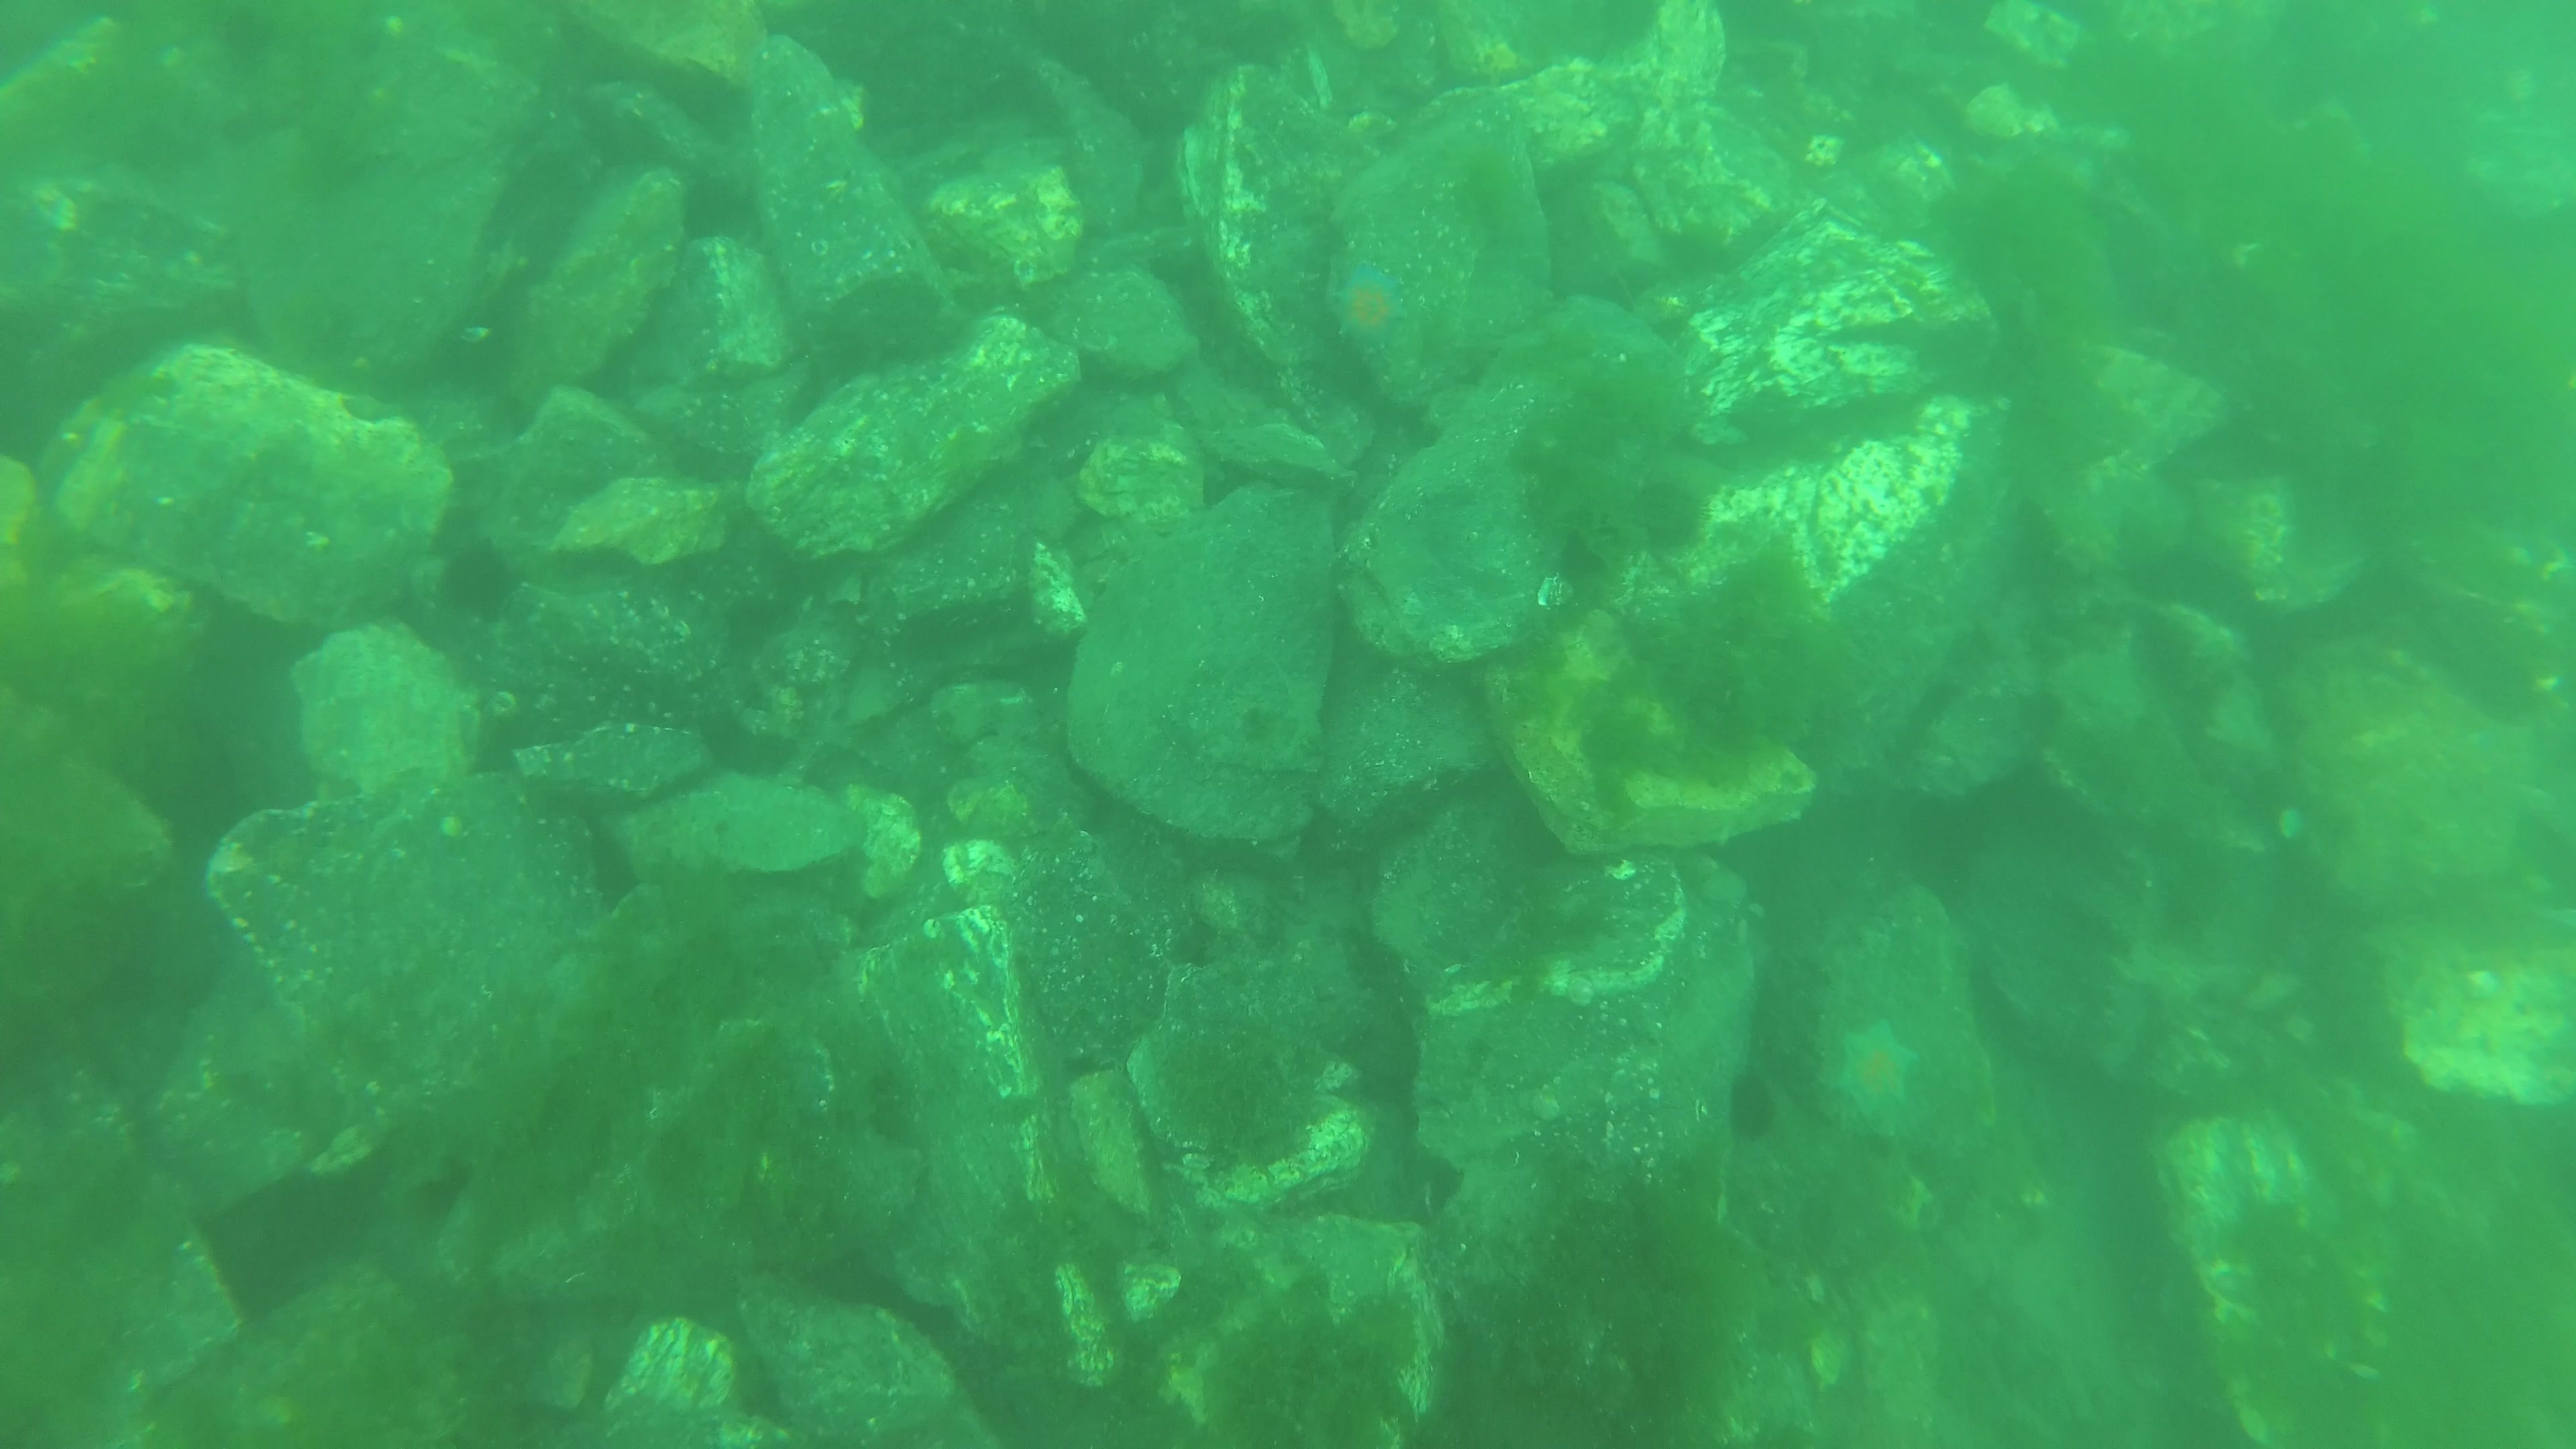echinus: (437, 540, 524, 626), (1727, 1069, 1778, 1146)
starfish: (1842, 1019, 1923, 1127), (1330, 262, 1412, 356)
